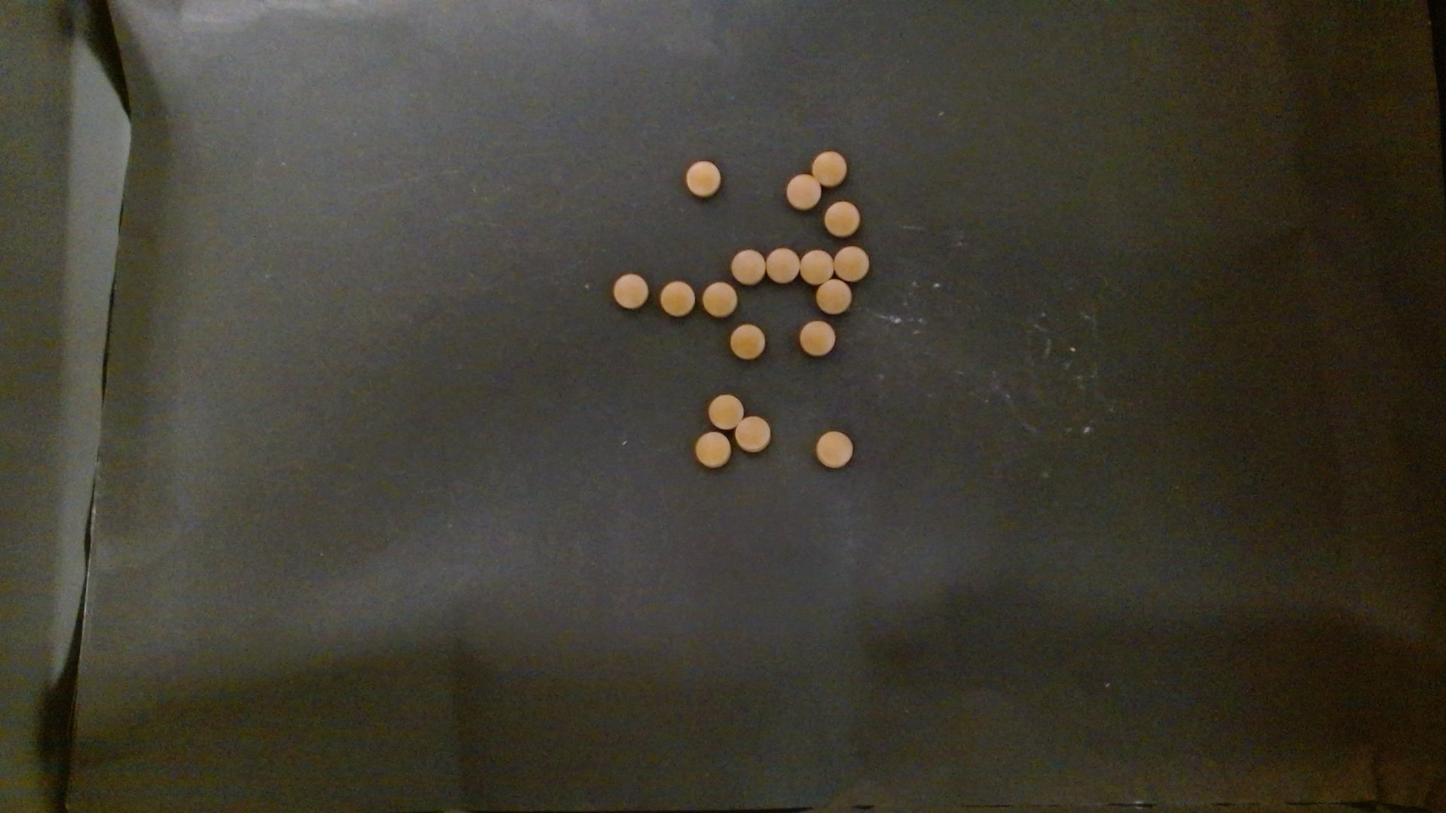Circle: (813, 428, 855, 470), (733, 414, 772, 454), (611, 272, 650, 311), (823, 199, 862, 237), (658, 279, 696, 318), (694, 431, 733, 468), (685, 160, 722, 197), (706, 393, 743, 430), (810, 149, 847, 186), (833, 245, 869, 282), (702, 281, 738, 318), (786, 173, 822, 210), (798, 320, 835, 356), (816, 278, 853, 314), (730, 324, 765, 360), (799, 249, 834, 285), (731, 248, 765, 285), (767, 247, 799, 283)
